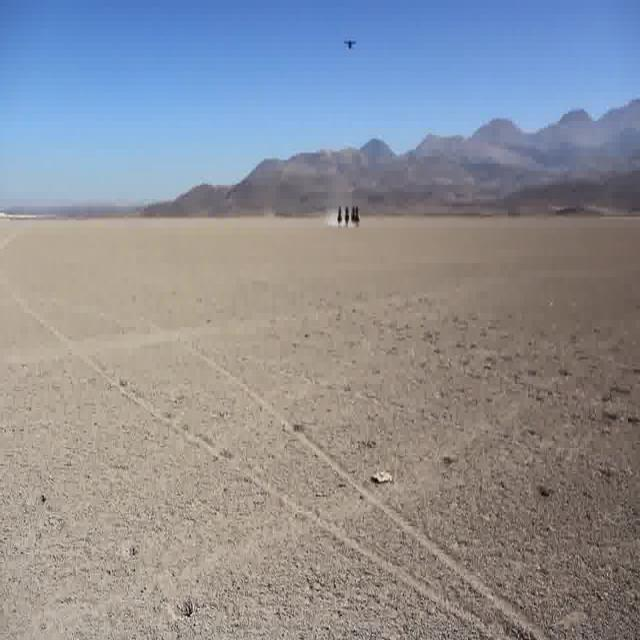drones: (339, 33, 360, 61)
